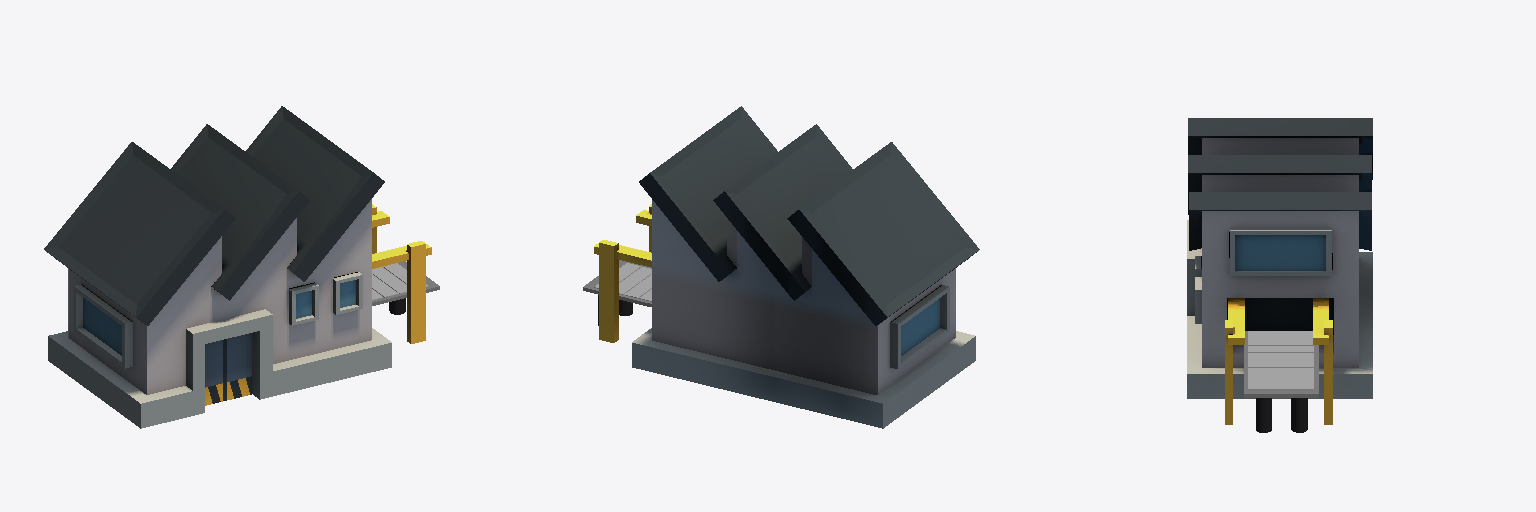
The picture shows the model from 3 angles: view 1: azimuth 30°, elevation 25°; view 2: azimuth 150°, elevation 25°; view 3: azimuth 270°, elevation 25°; orthographic projection.
Parts seen in each view (by area): view 1: factory, DoorRight_factory.002, DoorLeft_factory.001; view 2: factory; view 3: factory.
Boxes of the visible parts, box(x1,y1,x2,y2) form: factory: box(44, 106, 439, 428); DoorRight_factory.002: box(225, 333, 251, 400); DoorLeft_factory.001: box(205, 339, 224, 405); factory: box(583, 106, 979, 428); factory: box(1187, 118, 1372, 432).
Size of the model in its own units: 1.91 by 1.1 by 0.9253.
Materials: 4 (1 with a texture image).